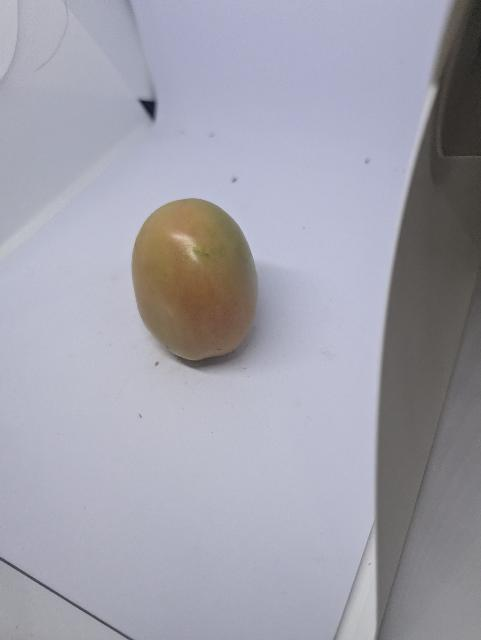turning: (124, 196, 263, 379)
